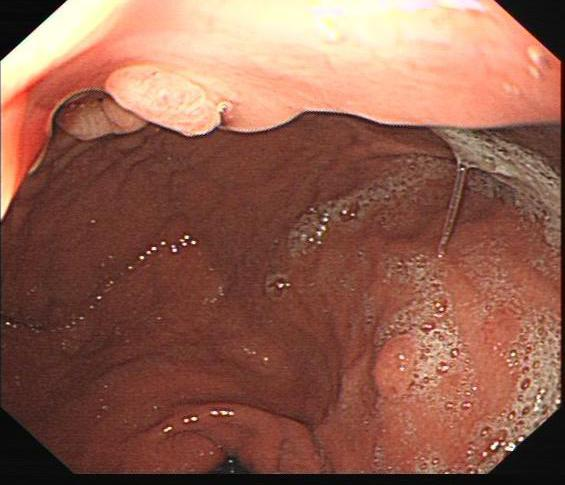Polyp: (374, 327, 430, 400)
